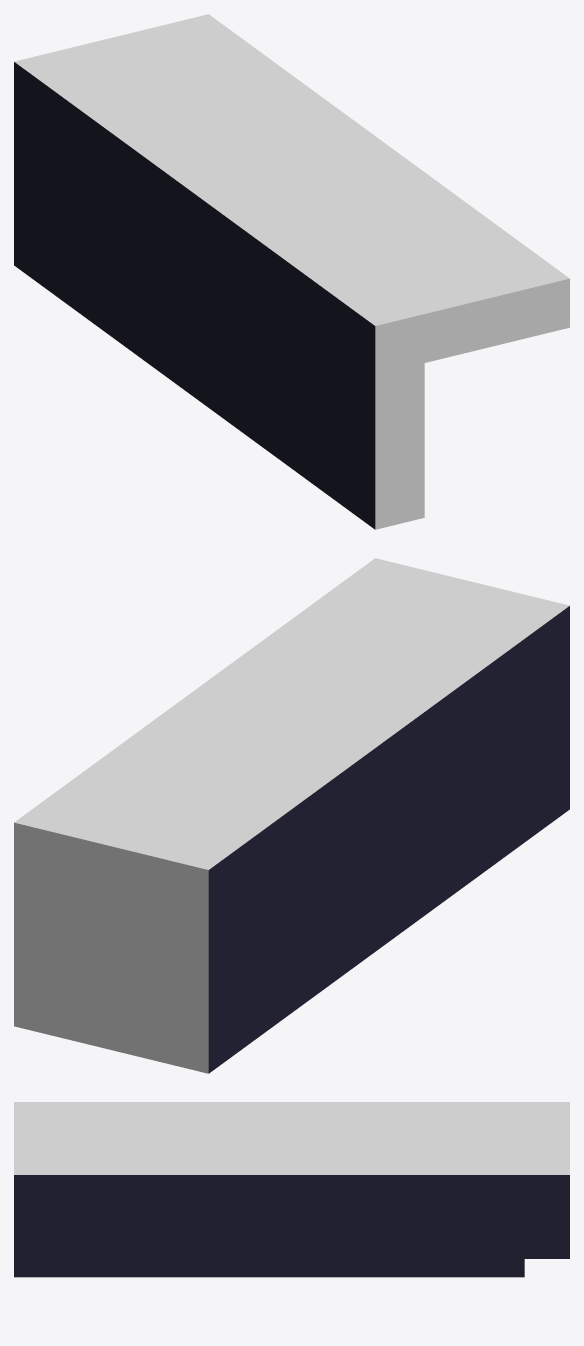
The model's file is 1U Ceiling Corner Wall.fbx.
3 views of the same model, one above another, from view 1: azimuth 30°, elevation 25°; view 2: azimuth 150°, elevation 25°; view 3: azimuth 270°, elevation 25° (orthographic). The views are drawn at different scales.
Parts seen in each view (by area): view 1: 1U Ceiling Corner Wall; view 2: 1U Ceiling Corner Wall; view 3: 1U Ceiling Corner Wall.
Part boxes in pixels (x1,y1,x2,y2): 1U Ceiling Corner Wall: (14, 14, 569, 529); 1U Ceiling Corner Wall: (14, 558, 569, 1073); 1U Ceiling Corner Wall: (14, 1102, 569, 1277).
Size of the model in its own units: 249 by 249 by 799.
